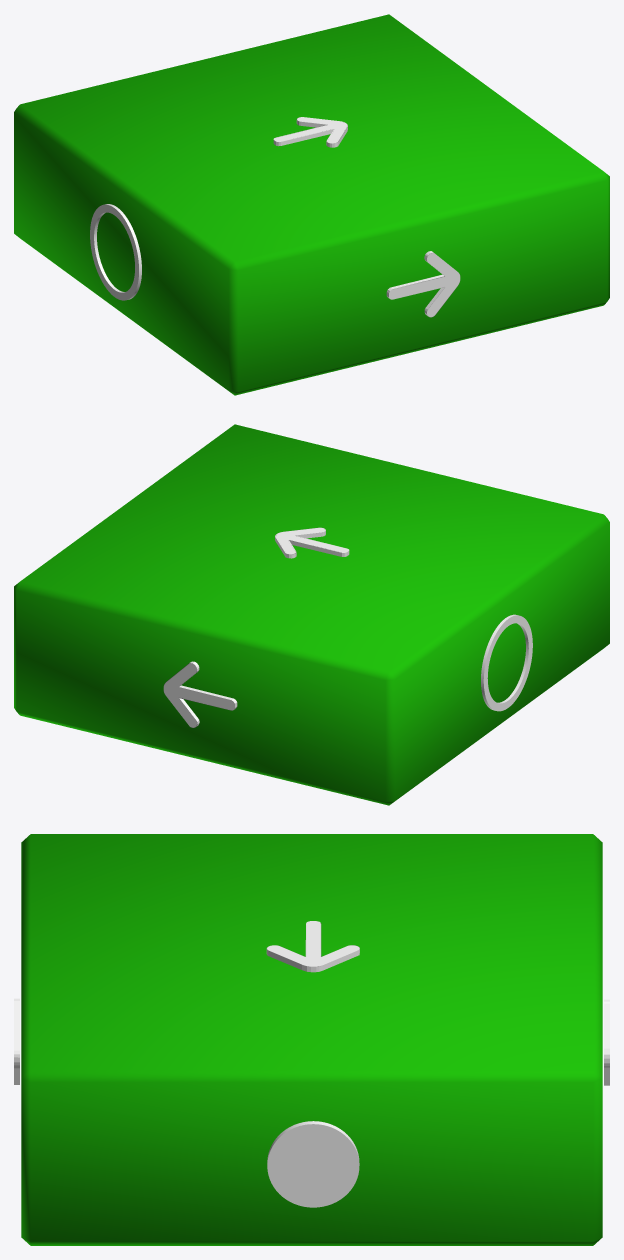
File: Box_3_1_3FlowBox_3_1_3_Clean_test.fbx
3 renders of one model, top to bottom at view 1: azimuth 30°, elevation 25°; view 2: azimuth 150°, elevation 25°; view 3: azimuth 270°, elevation 25°, orthographic. The views are drawn at different scales.
Visible parts, largest first — view 1: Box_3_1_3FlowBox_3_1_3_Clean_test; view 2: Box_3_1_3FlowBox_3_1_3_Clean_test; view 3: Box_3_1_3FlowBox_3_1_3_Clean_test.
Boxes of the visible parts, x1,y1,x2,y2 form: Box_3_1_3FlowBox_3_1_3_Clean_test: [14, 14, 609, 395]; Box_3_1_3FlowBox_3_1_3_Clean_test: [14, 424, 609, 805]; Box_3_1_3FlowBox_3_1_3_Clean_test: [14, 834, 609, 1245].
Size of the model in its own units: 3.22 by 1.14 by 3.22.
1 material, 1 textured.
